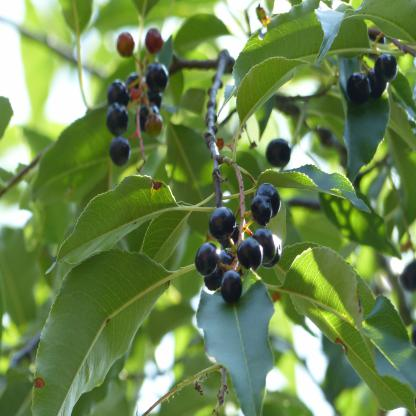cherry leaf: (35, 248, 177, 416), (281, 250, 416, 413), (188, 266, 291, 416), (48, 165, 184, 272), (223, 9, 332, 135)
